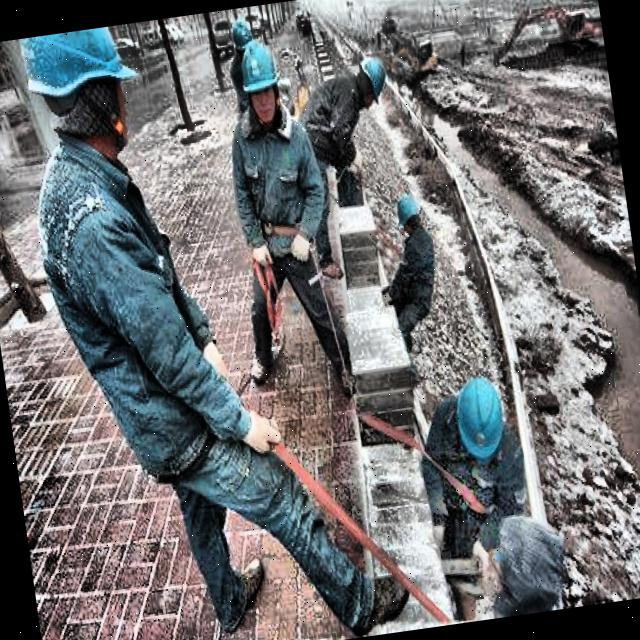helmet: (15, 25, 149, 188), (446, 367, 514, 478), (234, 30, 288, 132), (349, 54, 394, 114), (392, 190, 426, 243), (226, 12, 258, 67)
